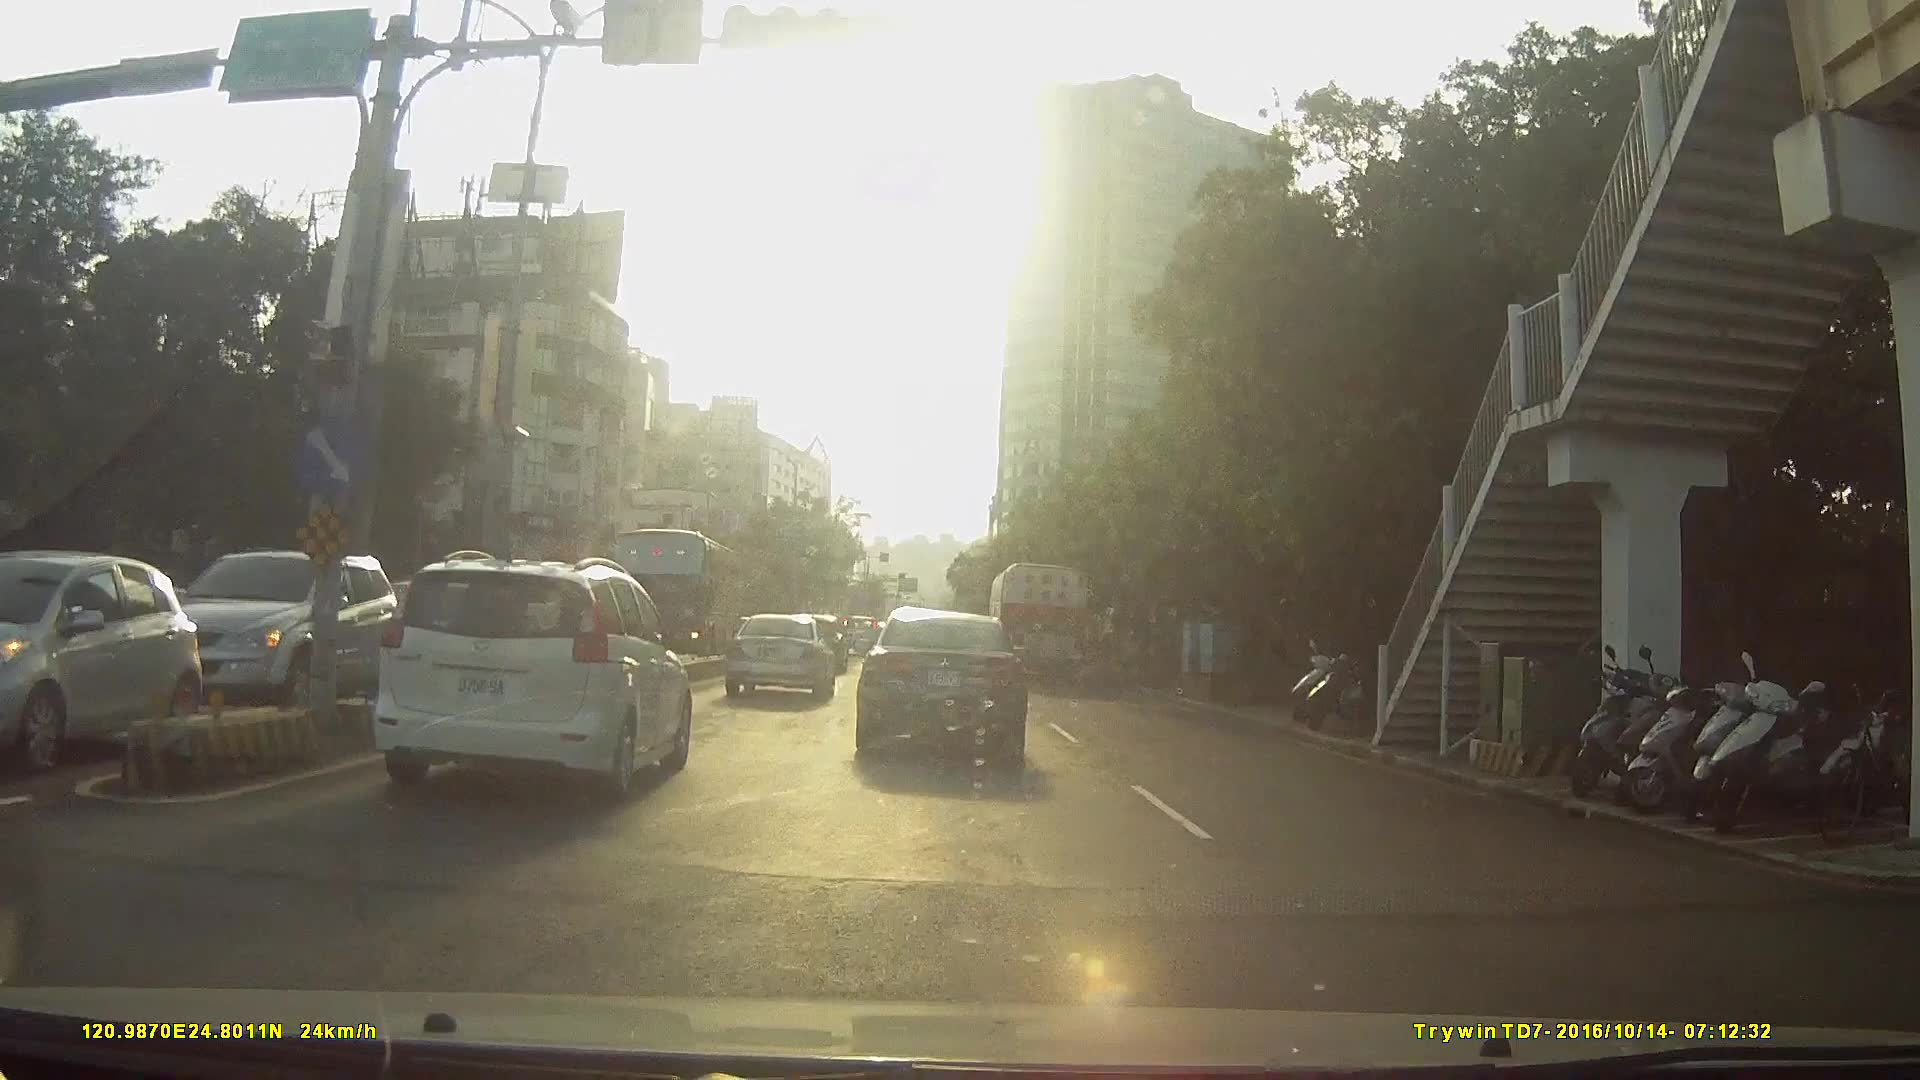vehicle: (251, 556, 684, 868), (373, 549, 694, 800), (129, 539, 425, 725), (0, 547, 158, 767), (855, 603, 1029, 771), (603, 526, 741, 662), (986, 560, 1092, 690), (725, 615, 835, 705), (837, 615, 884, 657)
